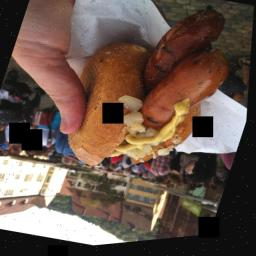hotdog: (46, 0, 250, 209)
